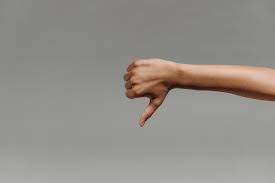ThumbsDown: (123, 57, 177, 128)
